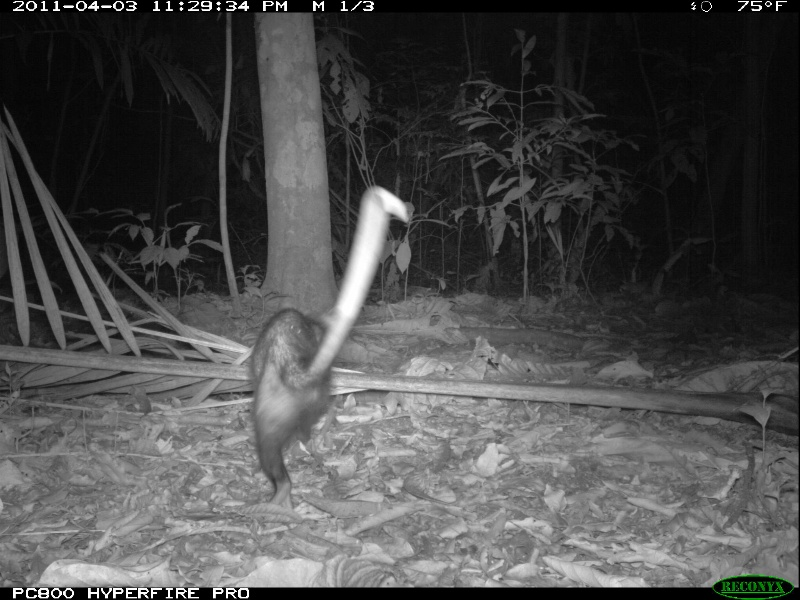opossum: (248, 185, 415, 509)
